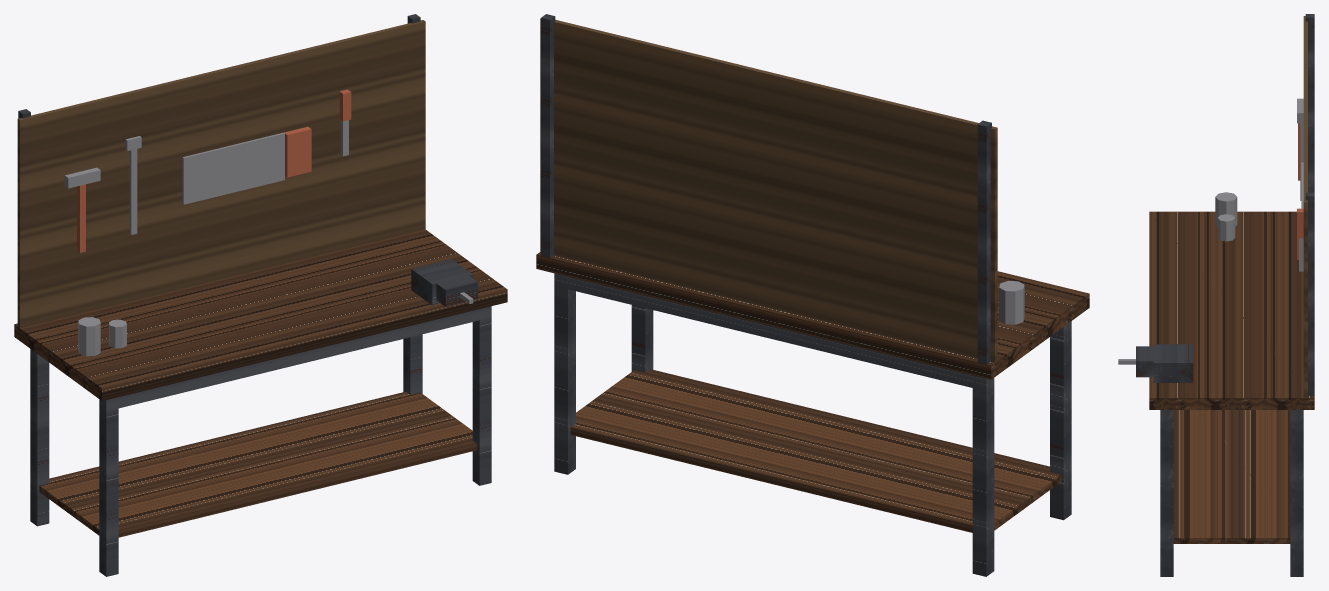
Rendered from workbench.glb.
3 renders of one model, left to right at view 1: azimuth 30°, elevation 25°; view 2: azimuth 150°, elevation 25°; view 3: azimuth 270°, elevation 25°, orthographic. The views are drawn at different scales.
Parts seen in each view (by area): view 1: Workbench; view 2: Workbench; view 3: Workbench.
Boxes of the visible parts, <box> form: Workbench: <box>14,14,507,576</box>; Workbench: <box>536,14,1089,576</box>; Workbench: <box>1118,14,1314,576</box>.
Size of the model in its own units: 2 by 1.92 by 0.89.
Materials: 5 (3 with a texture image).
